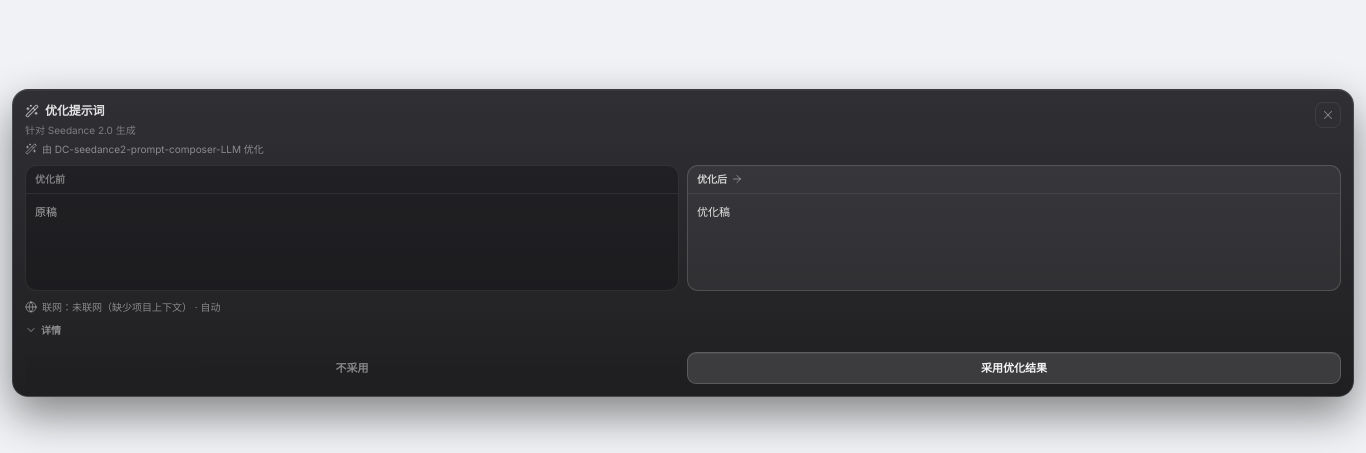
Test: PromptOptimizationPreview › explains why联网研究 was skipped and keeps sources one click away
Expected: the text "联网：未联网（缺少项目上下文） · 自动" is shown, [42, 300, 220, 314]
Expected: the link "Official model guide" is not shown
Click the button "详情" at (43, 330), box [25, 322, 61, 338]
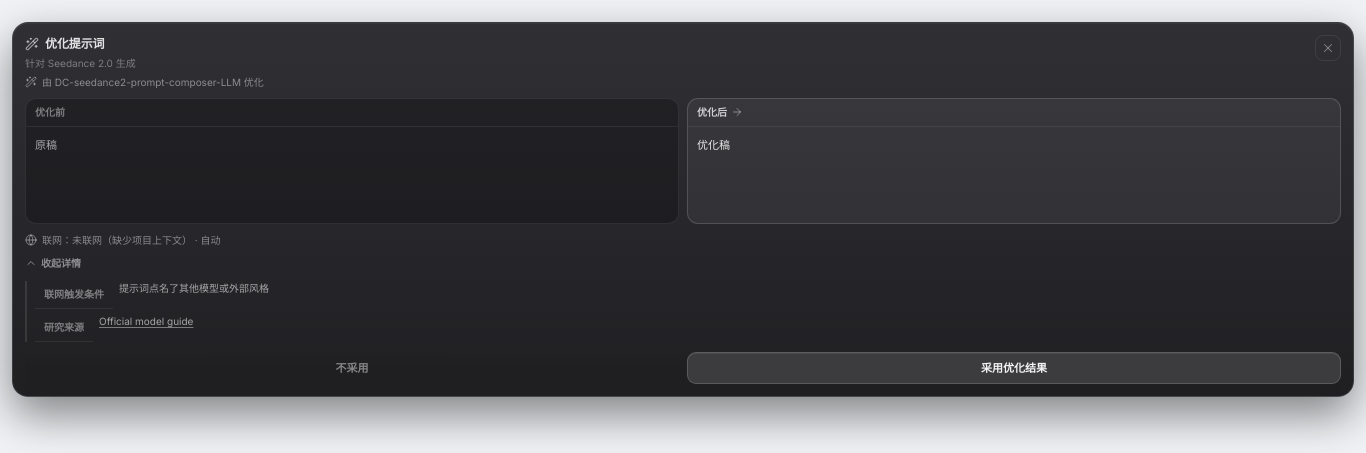
Result: the link "Official model guide" is shown at [99, 314, 193, 329]
Result: the text "提示词点名了其他模型或外部风格" is shown at [119, 281, 269, 296]
